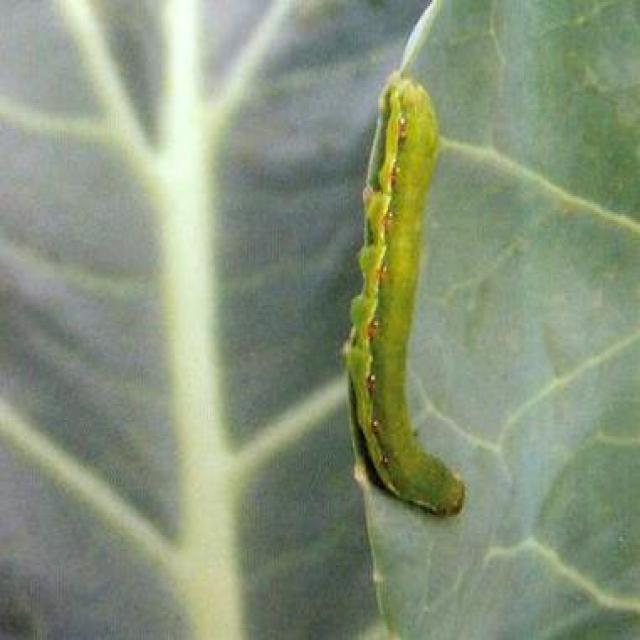BeetArmyWorm-Larva-: (318, 49, 491, 534)
